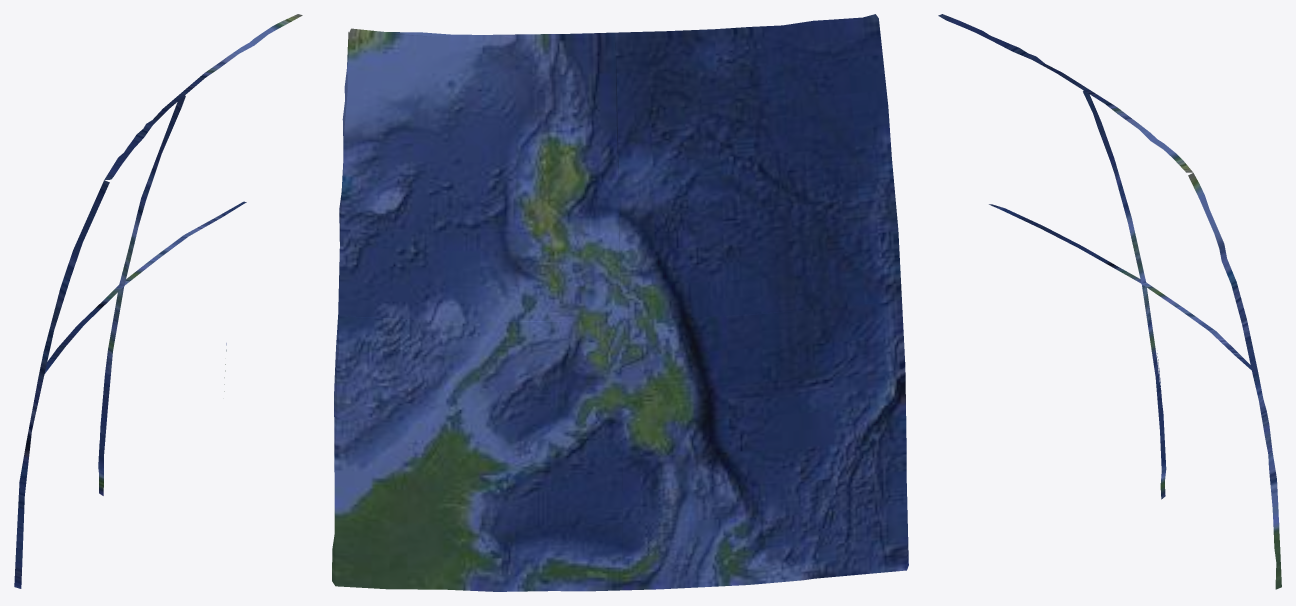
3 renders of one model, left to right at view 1: azimuth 30°, elevation 25°; view 2: azimuth 150°, elevation 25°; view 3: azimuth 270°, elevation 25°, orthographic. The views are drawn at different scales.
Bounding box in the file's own units: 2284509 × 2458702 × 1764427.
Materials: 1 (1 with a texture image).
